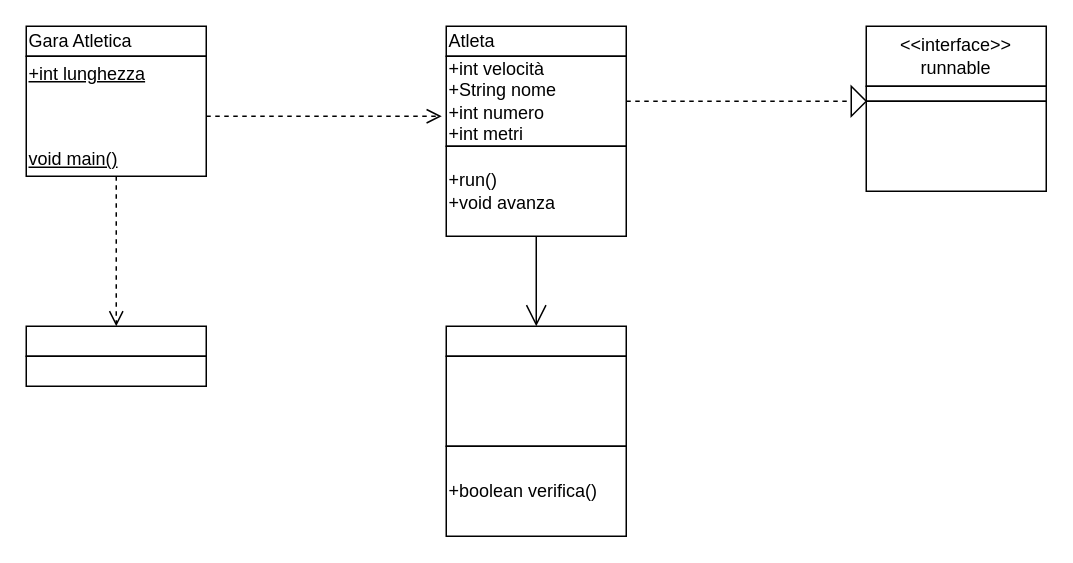
This 1073x563 diagram has some shape labels left out. Here are the shapes that lost their labels. From the top down, the centre of each, then its label:
point 955,145: +run()
point 115,340: Thread
point 535,340: Giudice
